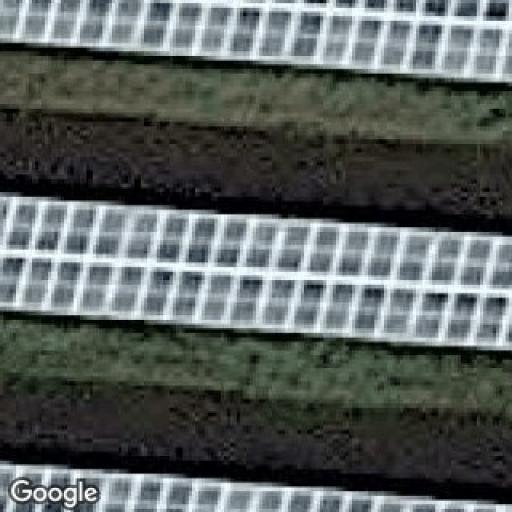solar-panel: (0, 190, 512, 360), (0, 0, 512, 90), (0, 457, 512, 512)
